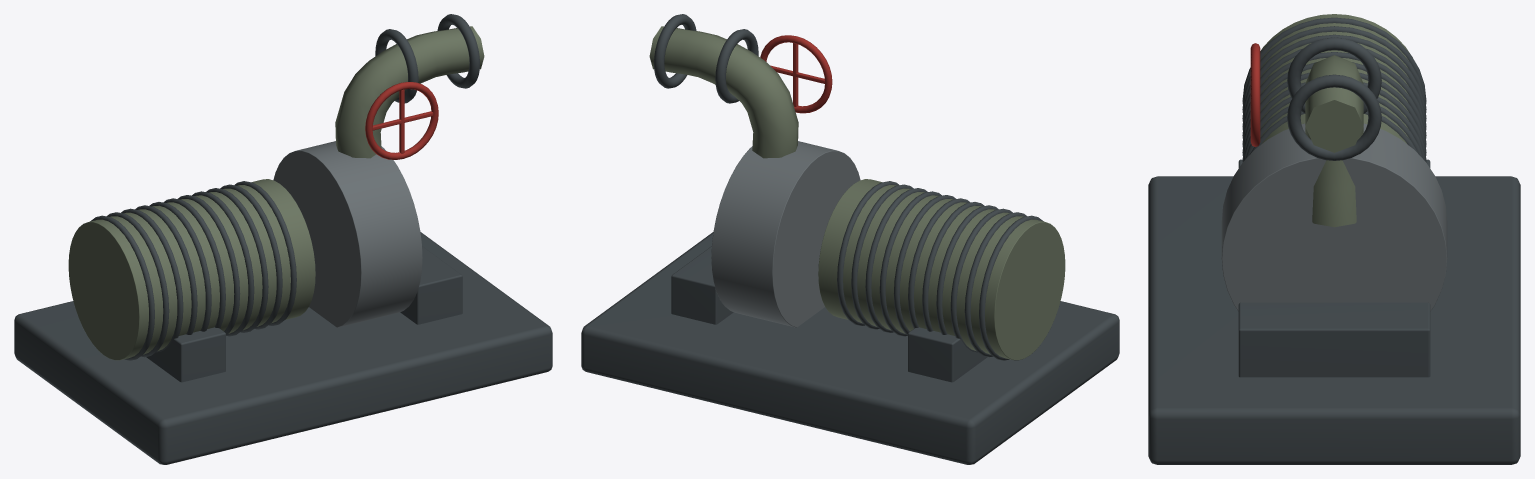
File: map-pump.glb
3 views of the same model, side by side, from view 1: azimuth 30°, elevation 25°; view 2: azimuth 150°, elevation 25°; view 3: azimuth 270°, elevation 25° (orthographic). The views are drawn at different scales.
Visible parts, largest first — view 1: map-pump; view 2: map-pump; view 3: map-pump.
Part boxes in pixels (left/top/right/bottom): map-pump: left=14, top=14, right=552, bottom=464; map-pump: left=581, top=14, right=1119, bottom=464; map-pump: left=1148, top=14, right=1520, bottom=464.
Bounding box in the file's own units: 2.5 × 1.86 × 1.65.
